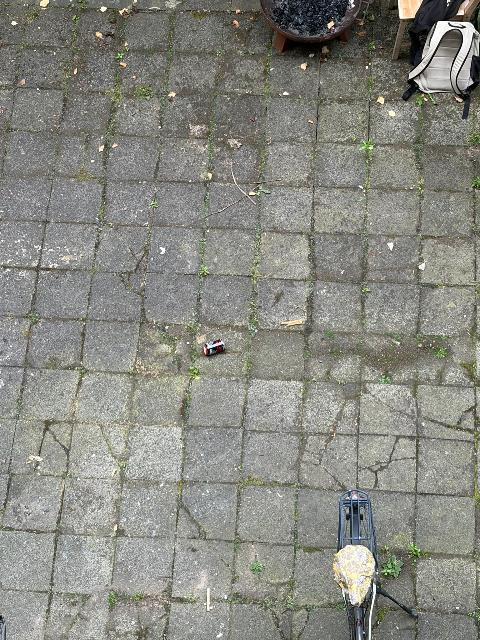can: (202, 340, 225, 357)
